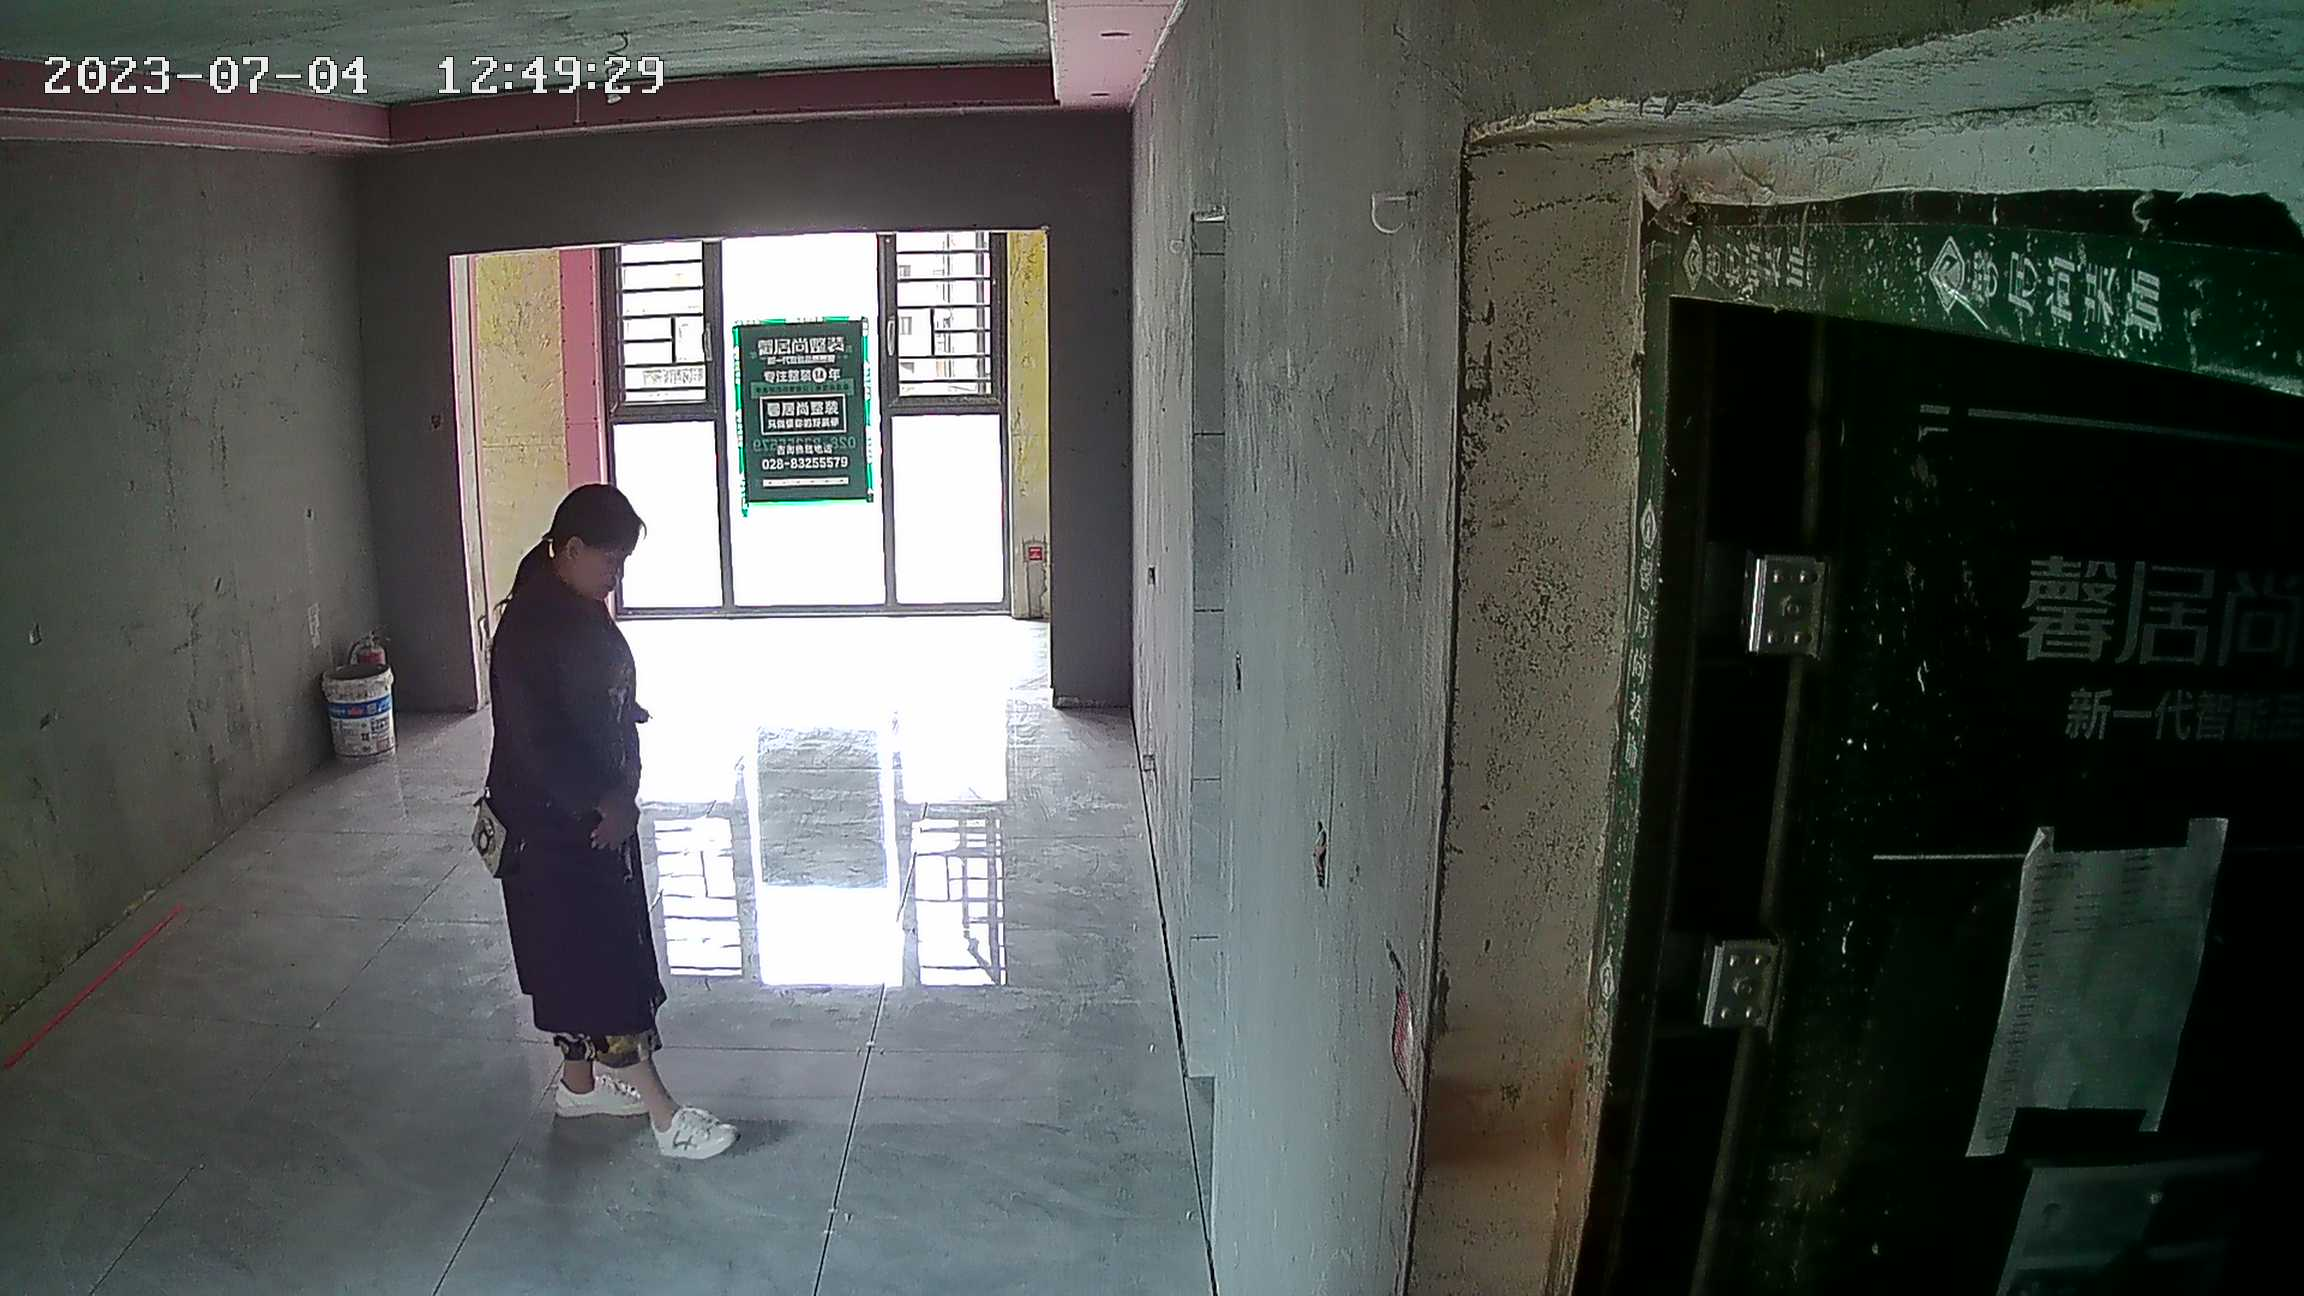people: (467, 498, 755, 1162)
window: (569, 222, 1019, 613)
